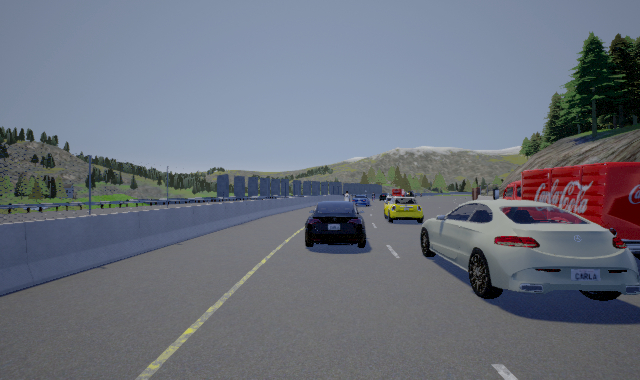vehicle: (418, 199, 640, 301), (492, 162, 640, 259), (304, 199, 370, 248), (382, 195, 430, 224), (351, 194, 370, 206)
